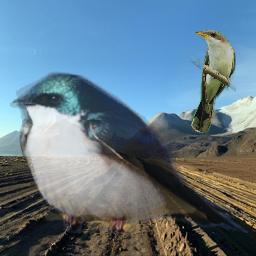Cuckoo: (191, 30, 236, 133)
Swallow: (10, 70, 248, 233)
